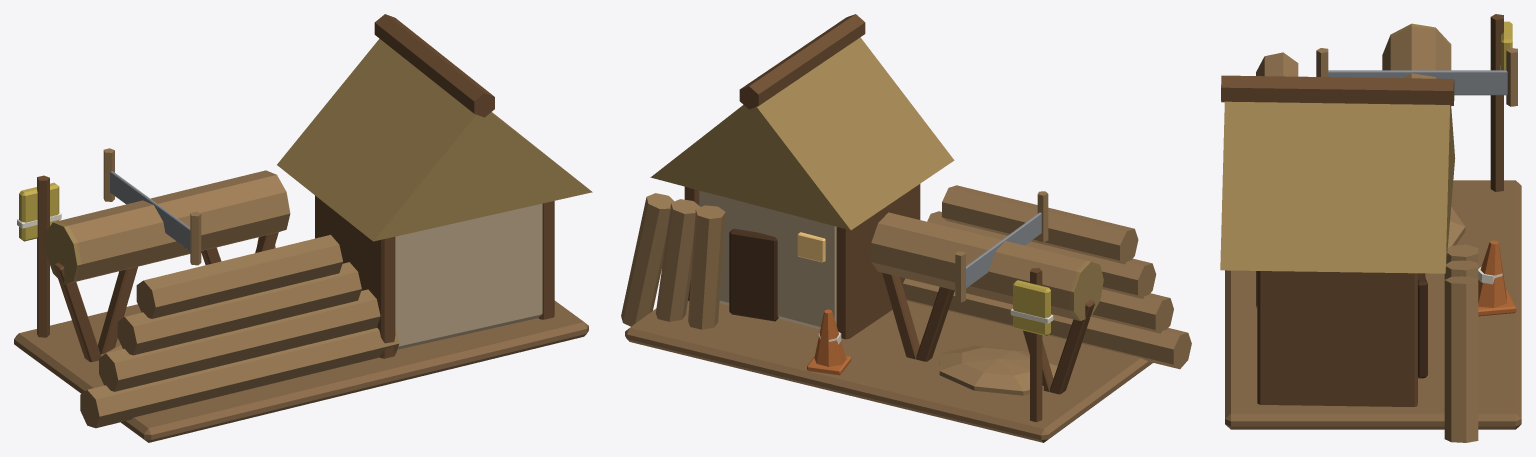
Rendered from woodcutter_l2.fbx.
3 renders of one model, left to right at view 1: azimuth 30°, elevation 25°; view 2: azimuth 150°, elevation 25°; view 3: azimuth 270°, elevation 25°, orthographic. The views are drawn at different scales.
Visible parts, largest first — view 1: Building; view 2: Building; view 3: Building.
Boxes of the visible parts, x1,y1,x2,y2 form: Building: (14, 14, 592, 442); Building: (621, 14, 1191, 442); Building: (1220, 14, 1521, 442).
Size of the model in its own units: 2.15 by 1.02 by 1.12.
